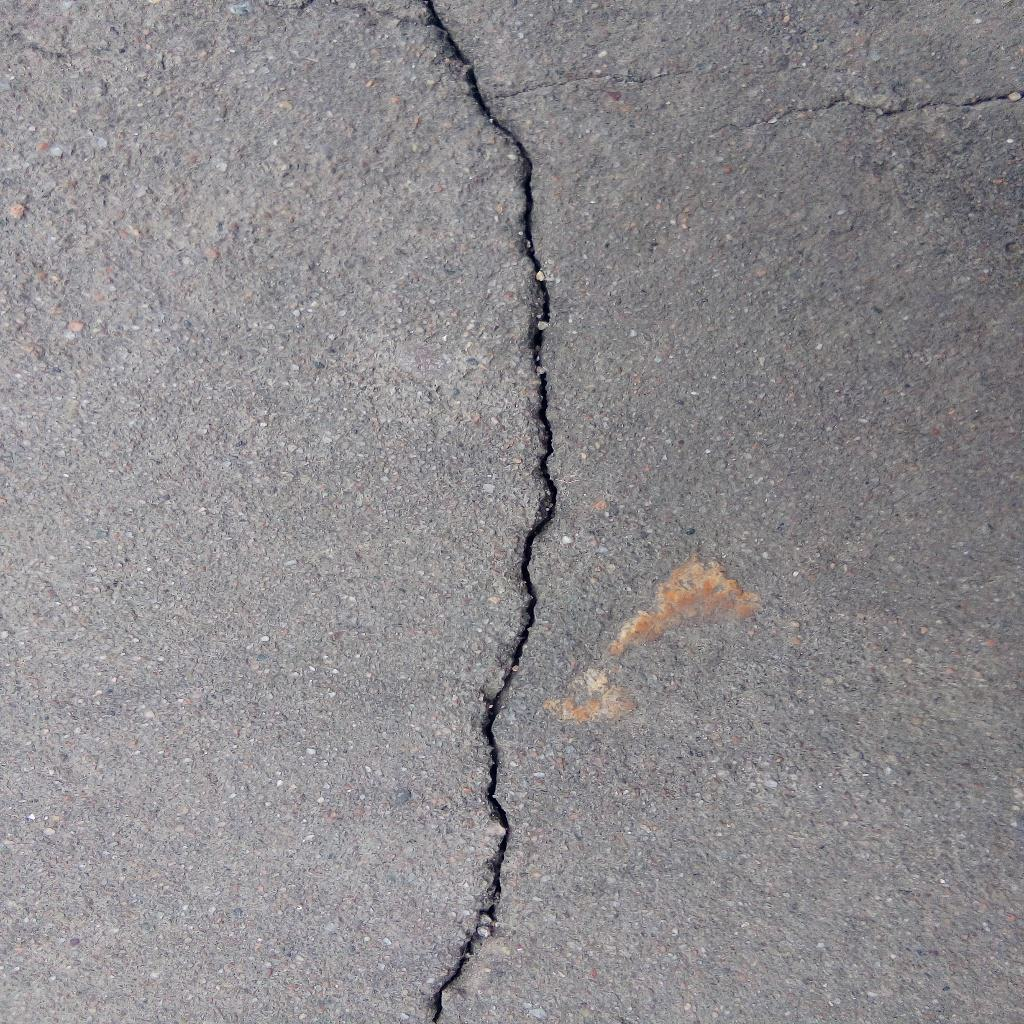Crack: (427, 1, 558, 1024), (713, 90, 1024, 135), (483, 69, 693, 104)
